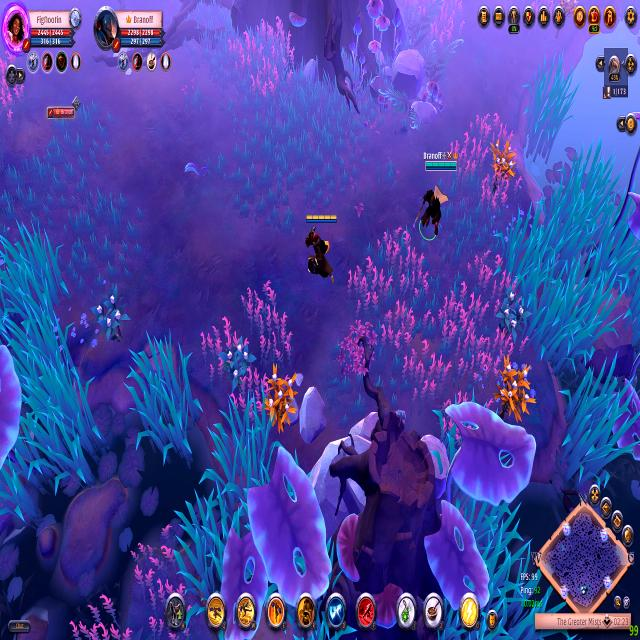hide: (216, 320, 257, 406), (495, 356, 541, 429), (263, 358, 300, 448), (91, 293, 133, 354), (497, 283, 529, 353), (490, 132, 521, 199), (553, 0, 582, 42)
red: (414, 145, 460, 262), (300, 206, 340, 297)
